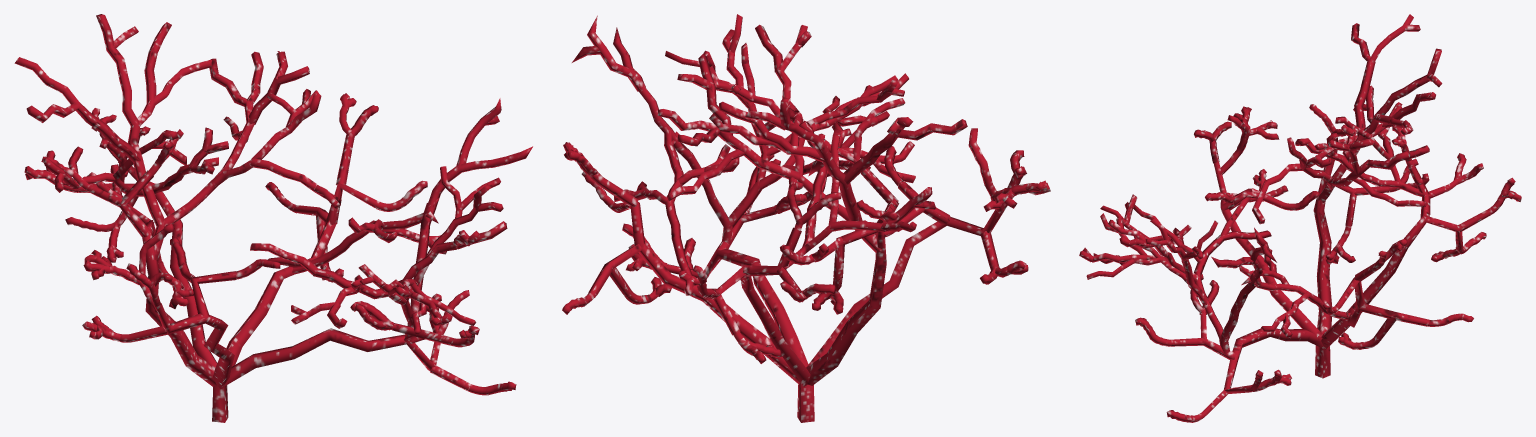
The model's file is RedGorgonian00.fbx.
3 views of the same model, side by side, from view 1: azimuth 30°, elevation 25°; view 2: azimuth 150°, elevation 25°; view 3: azimuth 270°, elevation 25° (orthographic). The views are drawn at different scales.
Visible parts, largest first — view 1: redgorgonian00; view 2: redgorgonian00; view 3: redgorgonian00.
Boxes of the visible parts, x1,y1,x2,y2 form: redgorgonian00: (14,14,532,422); redgorgonian00: (562,14,1050,422); redgorgonian00: (1079,14,1521,422).
Bounding box in the file's own units: 0.7678 × 0.6221 × 0.8178.
